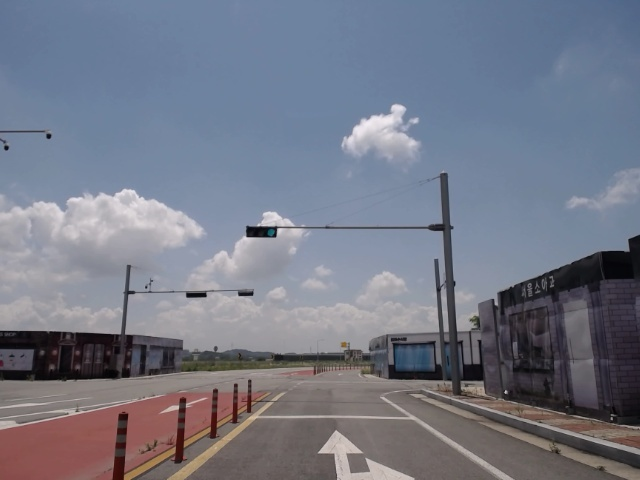green_3: (247, 228, 276, 237)
